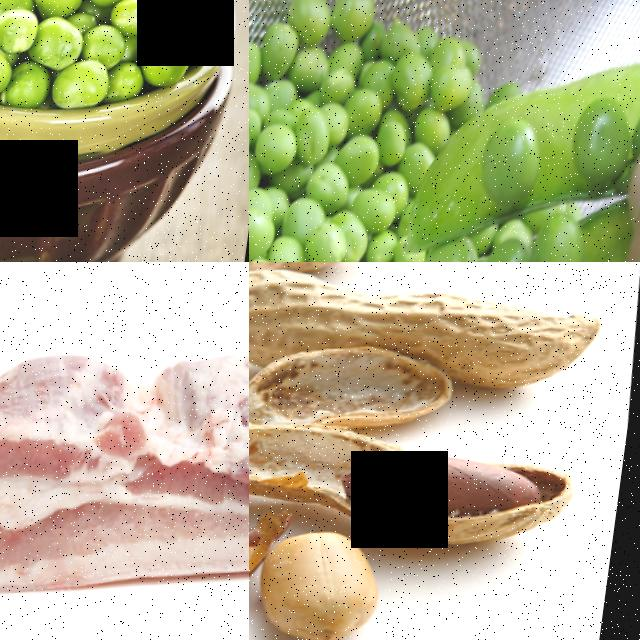peanuts: (435, 281, 618, 391), (342, 439, 558, 527), (249, 264, 428, 358), (263, 531, 399, 640)
peas: (249, 0, 460, 262), (0, 0, 231, 91)
pork belly: (0, 305, 249, 614)
